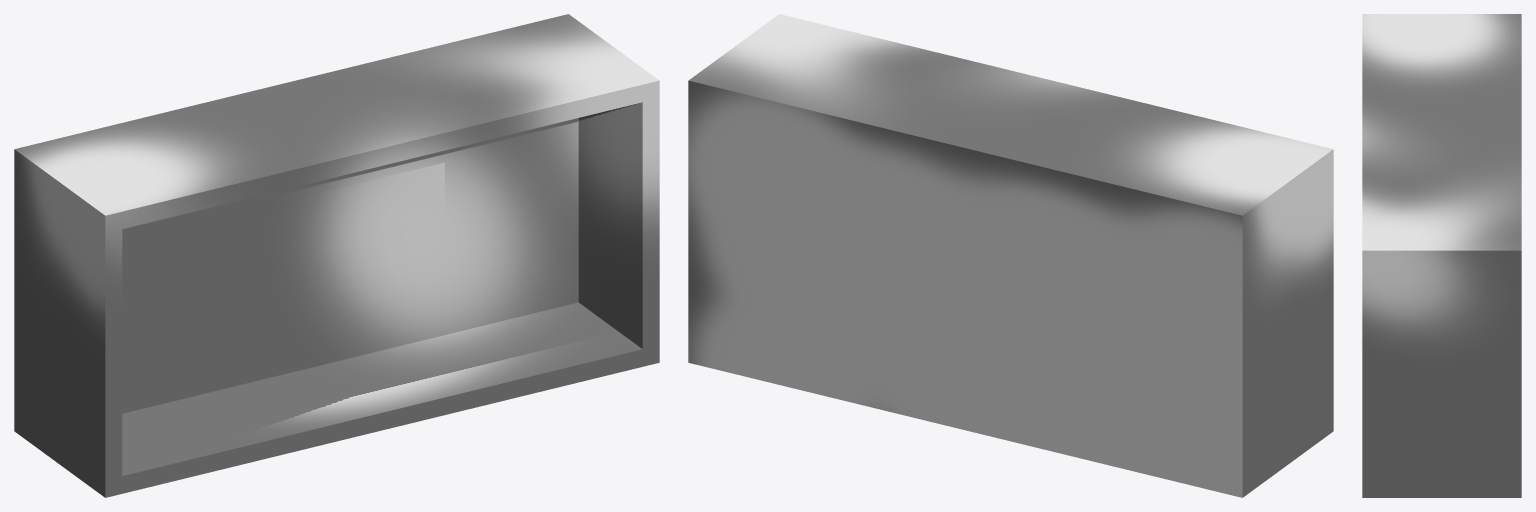
The model's file is BoxFuse.fbx.
3 views of the same model, side by side, from view 1: azimuth 30°, elevation 25°; view 2: azimuth 150°, elevation 25°; view 3: azimuth 270°, elevation 25° (orthographic). The views are drawn at different scales.
Parts seen in each view (by area): view 1: Box; view 2: Box; view 3: Box.
Boxes of the visible parts, x1,y1,x2,y2 form: Box: [14, 14, 659, 497]; Box: [688, 14, 1333, 497]; Box: [1362, 14, 1521, 497].
Size of the model in its own units: 165 by 80.41 by 46.96.
